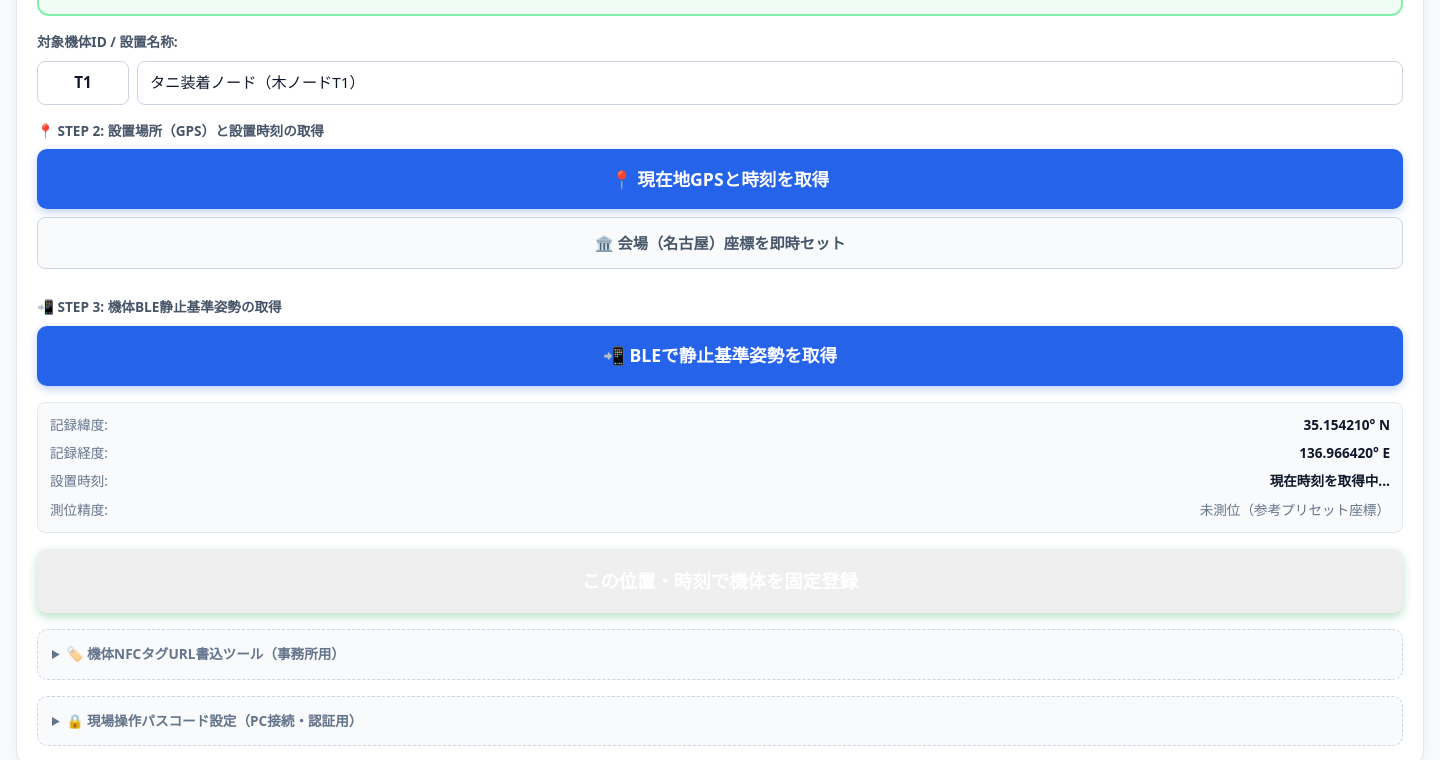
it: MobileHome › 設置登録画面でSTEP 3のBLE基準取得ボタンを押下して基準を取得できること (Issue #57, #71)
The image size is (1440, 760).
(page scrolled)
Click the button "📲 BLEで静止基準姿勢を取得" at (720, 356), box [37, 326, 1403, 386]
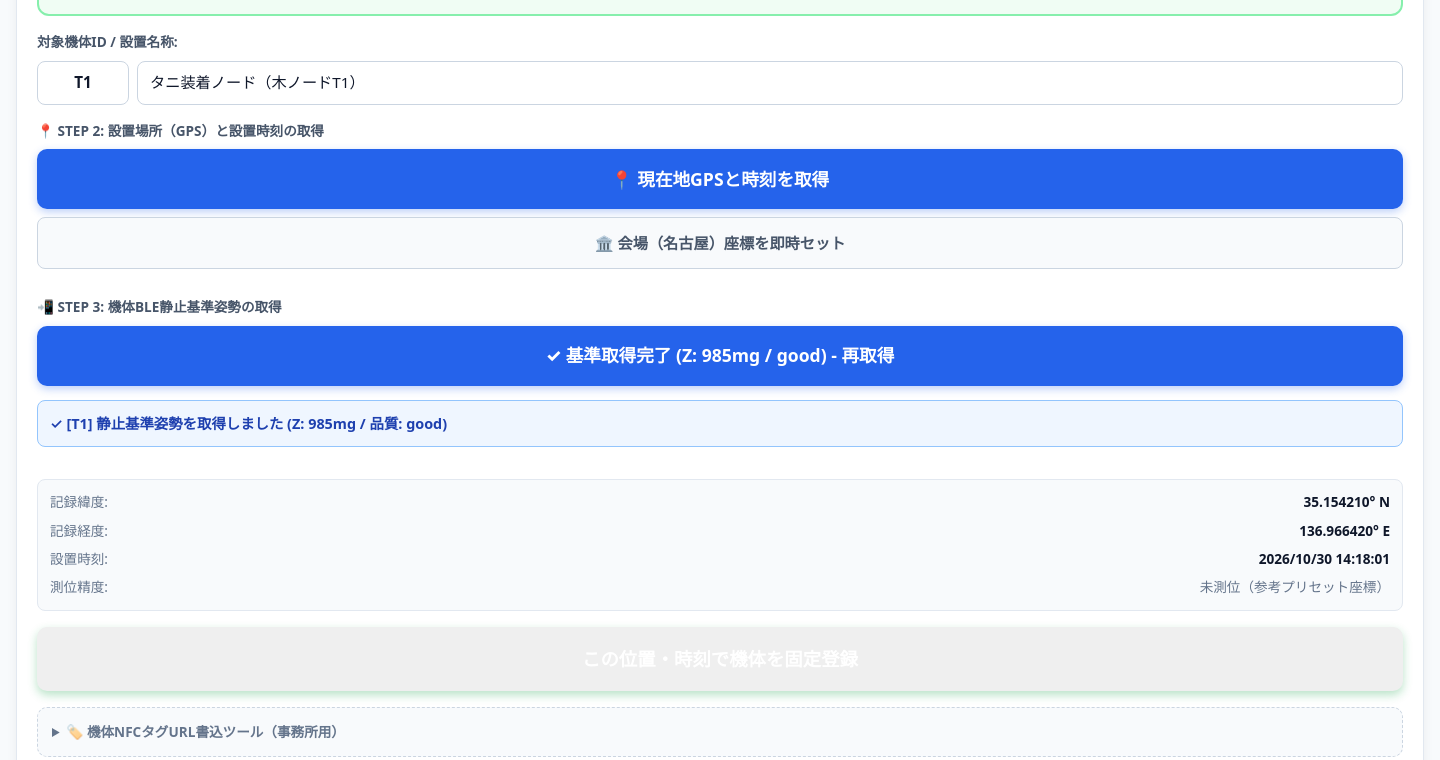
Result: the text "✓ [T1] 静止基準姿勢を取得しました (Z: 985mg / 品質: good)" is shown at [37, 400, 1403, 447]
